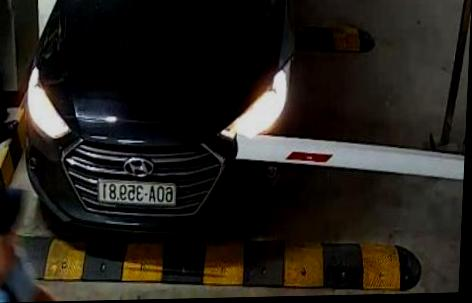License_Plate: (88, 174, 181, 213)
